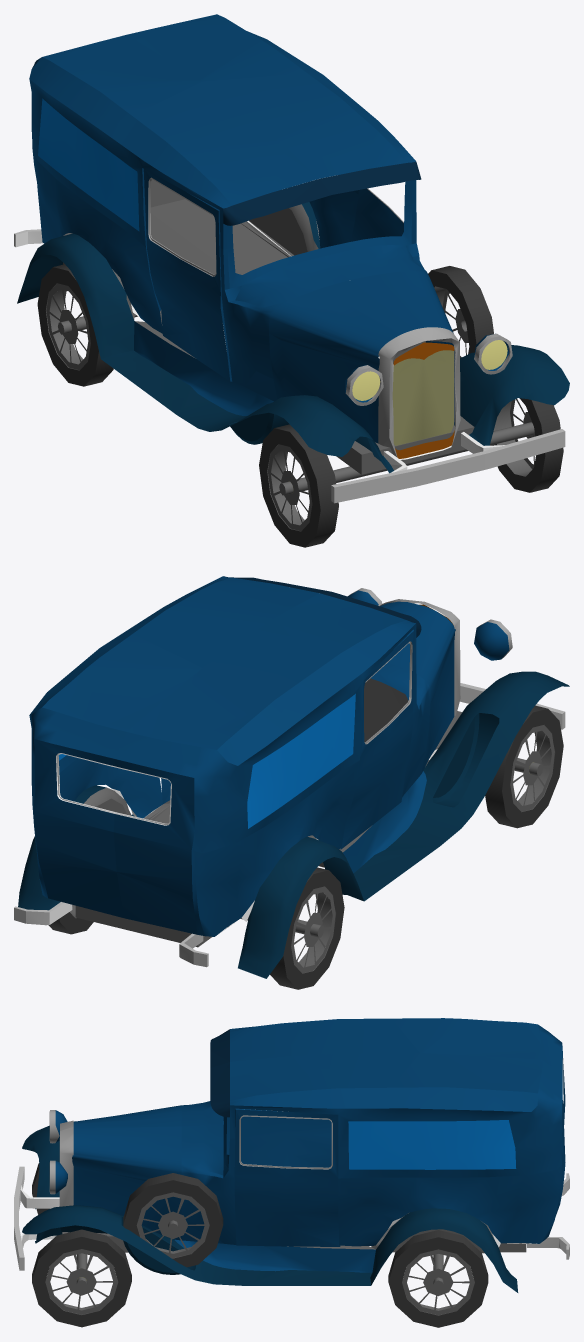
The model's file is car4.fbx.
3 views of the same model, one above another, from view 1: azimuth 30°, elevation 25°; view 2: azimuth 150°, elevation 25°; view 3: azimuth 270°, elevation 25° (orthographic). The views are drawn at different scales.
Visible parts, largest first — view 1: half_004, half_001, wheel_005, wheel_004, wheel_003, wheel_001; view 2: half_004, half_001, wheel_005, wheel_004, wheel_002; view 3: half_001, half_004, wheel_002, wheel_003, wheel_001.
Boxes of the visible parts, x1,y1,x2,y2 form: half_004: [14, 34, 453, 503]; half_001: [127, 14, 569, 477]; wheel_005: [259, 424, 338, 547]; wheel_004: [37, 264, 113, 386]; wheel_003: [491, 398, 563, 492]; wheel_001: [428, 266, 493, 357]; half_004: [113, 592, 569, 978]; half_001: [14, 576, 423, 932]; wheel_005: [485, 705, 563, 828]; wheel_004: [270, 867, 344, 989]; wheel_002: [48, 905, 93, 934]; half_001: [14, 1053, 569, 1292]; half_004: [14, 1018, 569, 1211]; wheel_002: [388, 1230, 488, 1327]; wheel_003: [32, 1229, 131, 1327]; wheel_001: [123, 1173, 223, 1267].
Size of the model in its own units: 1821 by 1849 by 4109.
